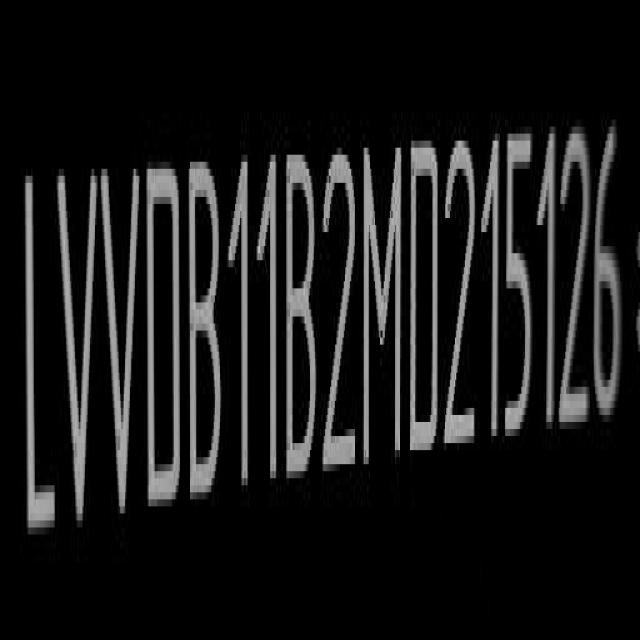1: (258, 151, 280, 493), (231, 162, 252, 502), (537, 117, 557, 440), (483, 134, 500, 455)
2: (323, 146, 360, 488), (445, 139, 480, 462), (556, 122, 590, 441)
5: (504, 122, 535, 451)
6: (594, 118, 624, 430)
B: (190, 160, 226, 514), (287, 149, 320, 490)
D: (144, 161, 182, 522), (409, 136, 442, 467)
L: (20, 164, 56, 555)
M: (367, 136, 407, 474)
V: (55, 158, 98, 543), (103, 161, 144, 532)
